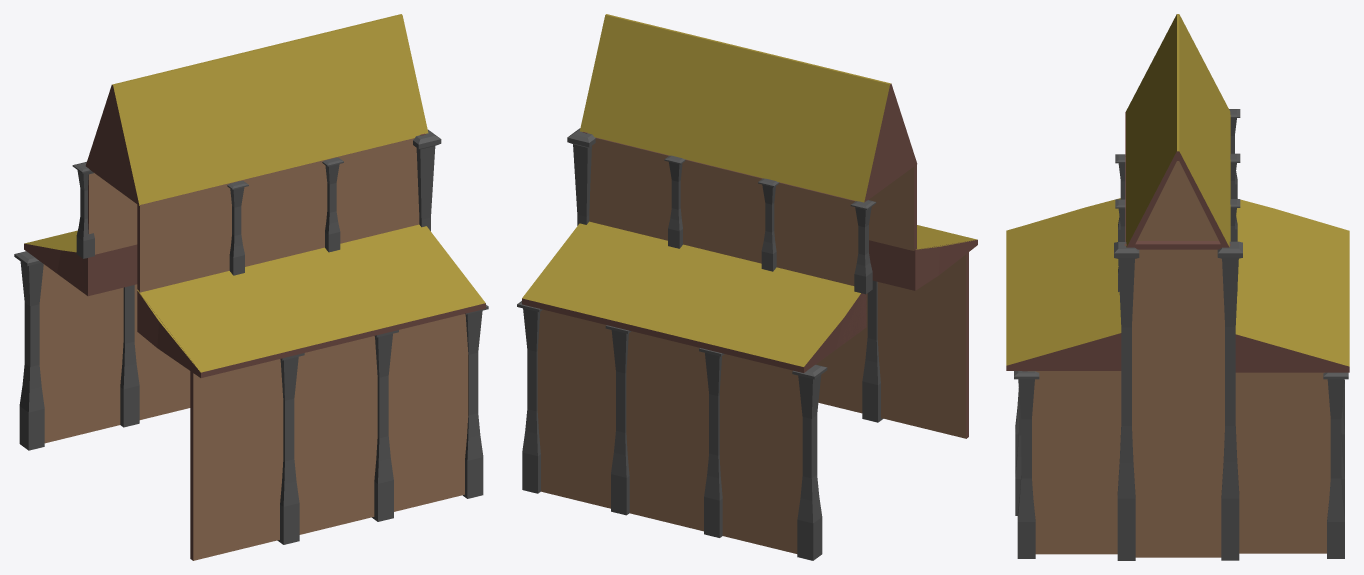
The model's file is Church_Collision_Test.fbx.
3 views of the same model, side by side, from view 1: azimuth 30°, elevation 25°; view 2: azimuth 150°, elevation 25°; view 3: azimuth 270°, elevation 25° (orthographic). The views are drawn at different scales.
Visible parts, largest first — view 1: polySurface77, polySurface74, IntactWall_03, Piece3 (×2), polySurface76, polySurface67, polySurface66, polySurface65, IntactSmallWall_017, IntactSmallWall_018, IntactSmallWall_019, Piece17 (+30 smaller); view 2: polySurface77, IntactWall_017, polySurface76, Piece3 (×2), polySurface85, polySurface84, polySurface82, Piece (×4), polySurface52, polySurface74, IntactSmallWall_03, IntactSmallWall_01 (+42 smaller); view 3: IntactWall_020, Piece24, polySurface74, IntactWall_021, polySurface82, polySurface65, Piece3, polySurface67, polySurface85, polySurface66, Piece25, IntactLargePillar_06 (+32 smaller).
Part boxes in pixels (x1,y1,x2,y2): polySurface77: (85, 61, 234, 205); polySurface74: (301, 14, 428, 158); IntactWall_03: (39, 264, 123, 443); Piece3 (×2): (190, 382, 350, 545); polySurface76: (208, 38, 328, 181); polySurface67: (137, 271, 296, 377); polySurface66: (239, 247, 389, 354); polySurface65: (333, 224, 485, 331); IntactSmallWall_017: (137, 182, 234, 292); IntactSmallWall_018: (235, 159, 328, 266); IntactSmallWall_019: (329, 138, 419, 243); Piece17: (388, 359, 445, 486); polySurface77: (770, 60, 917, 202); IntactWall_017: (877, 254, 966, 438); polySurface76: (678, 38, 796, 179); Piece3 (×2): (655, 375, 802, 520); polySurface85: (710, 267, 866, 372); polySurface84: (617, 244, 766, 350); polySurface82: (522, 222, 673, 327); Piece (×4): (611, 360, 877, 553); polySurface52: (588, 15, 703, 116); polySurface74: (580, 14, 704, 156); IntactSmallWall_03: (774, 182, 858, 285); IntactSmallWall_01: (589, 138, 671, 240); IntactWall_020: (1028, 371, 1121, 554); Piece24: (1132, 317, 1195, 519); polySurface74: (1126, 103, 1230, 249); IntactWall_021: (1235, 372, 1330, 550); polySurface82: (1235, 289, 1349, 372); polySurface65: (1006, 288, 1121, 370); Piece3: (1235, 410, 1298, 530); polySurface67: (1006, 198, 1120, 275); polySurface85: (1236, 200, 1349, 275); polySurface66: (1006, 245, 1118, 320); Piece25: (1135, 450, 1203, 557); IntactLargePillar_06: (1217, 241, 1242, 560).
Size of the model in its own units: 9.73 by 12.75 by 9.73.
